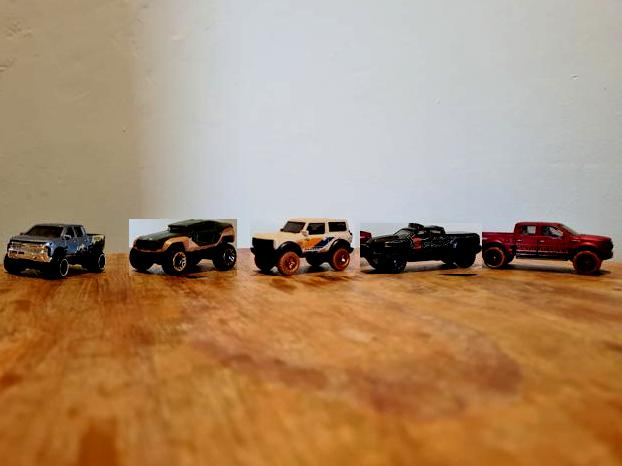toy-car: (470, 222, 614, 276), (360, 224, 482, 275), (129, 220, 237, 277), (250, 218, 355, 276), (3, 223, 106, 279)
